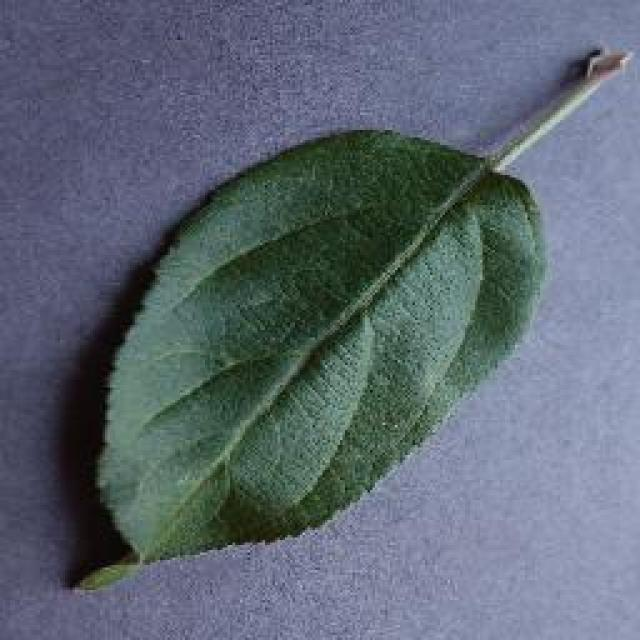apple healthy: (68, 40, 632, 592)
